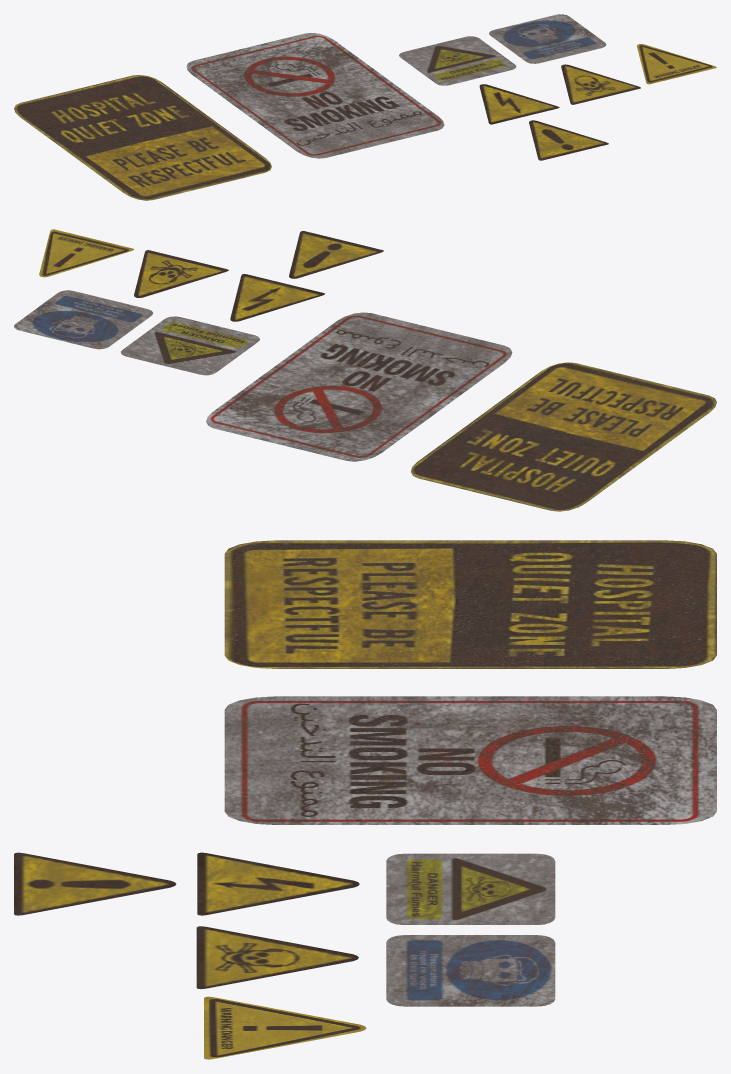
3 renders of one model, top to bottom at view 1: azimuth 30°, elevation 25°; view 2: azimuth 150°, elevation 25°; view 3: azimuth 270°, elevation 25°, orthographic. The views are drawn at different scales.
Visible parts, largest first — view 1: QuietZone.001, NoSmoking.001, Harmful.001, MustBeWorn.001, ! Sign.001, ToxicSign.001, WarningSign.001, ElectricSign.001; view 2: NoSmoking.001, QuietZone.001, MustBeWorn.001, Harmful.001, WarningSign.001, ElectricSign.001, ToxicSign.001, ! Sign.001; view 3: NoSmoking.001, QuietZone.001, MustBeWorn.001, Harmful.001, ToxicSign.001, ElectricSign.001, WarningSign.001, ! Sign.001.
Part boxes in pixels (box(x1,y1,x2,y2)): QuietZone.001: box(14, 75, 271, 200); NoSmoking.001: box(186, 33, 444, 158); Harmful.001: box(399, 36, 516, 85); MustBeWorn.001: box(489, 14, 606, 63); ! Sign.001: box(529, 120, 608, 160); ToxicSign.001: box(561, 64, 640, 104); WarningSign.001: box(637, 44, 716, 84); ElectricSign.001: box(479, 84, 559, 124); NoSmoking.001: box(206, 312, 512, 461); QuietZone.001: box(411, 362, 716, 511); MustBeWorn.001: box(14, 290, 153, 349); Harmful.001: box(121, 316, 259, 375); WarningSign.001: box(39, 229, 133, 277); ElectricSign.001: box(230, 274, 324, 321); ToxicSign.001: box(134, 250, 228, 297); ! Sign.001: box(289, 231, 383, 278); NoSmoking.001: box(224, 696, 716, 824); QuietZone.001: box(224, 540, 716, 668); MustBeWorn.001: box(386, 935, 555, 1006); Harmful.001: box(386, 853, 555, 924); ToxicSign.001: box(196, 926, 358, 989); ElectricSign.001: box(197, 852, 359, 915); WarningSign.001: box(204, 996, 366, 1059); ! Sign.001: box(14, 852, 176, 915).
Size of the model in its own units: 7.27 by 4.75e-07 by 4.16.
Materials: 1 (1 with a texture image).
